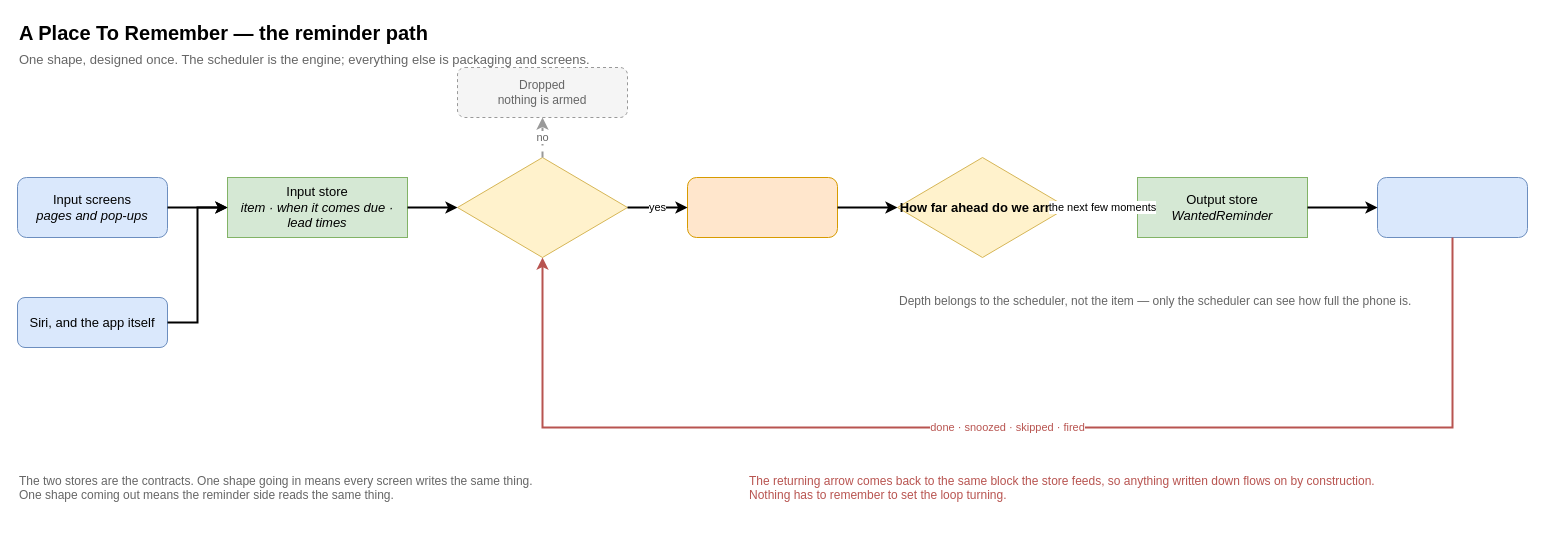
This 1545x534 diagram has some shape labels left out. The shapes that lost their labels are listed below. From the top down, each one's box as (x1, y1, x2, y2) in pixels, then its label:
(456, 156, 628, 258): Is this still wanted?
(686, 176, 838, 238): Scheduler the engine
(1376, 176, 1528, 238): The phone banner and buttons
